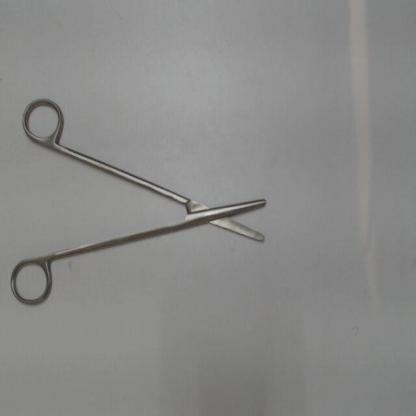9 Metzenbaum Scissors: (6, 89, 272, 311)
